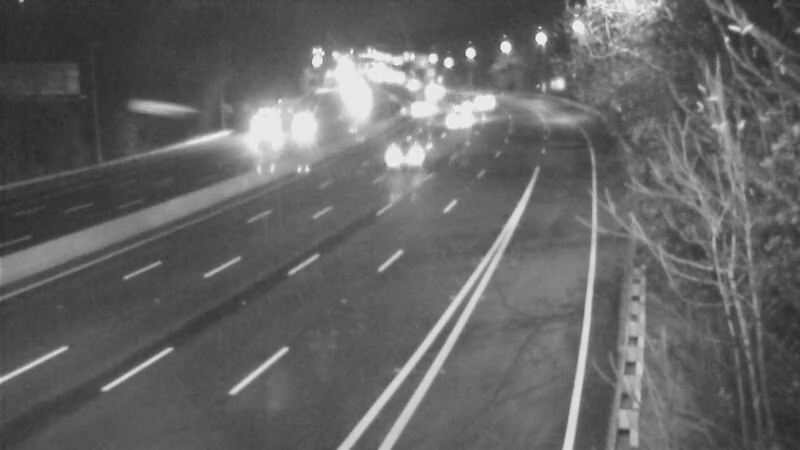vehicle: (377, 113, 457, 193), (405, 62, 455, 112), (448, 68, 498, 118), (429, 81, 479, 131), (408, 69, 458, 119), (435, 95, 485, 145), (231, 104, 281, 154)
